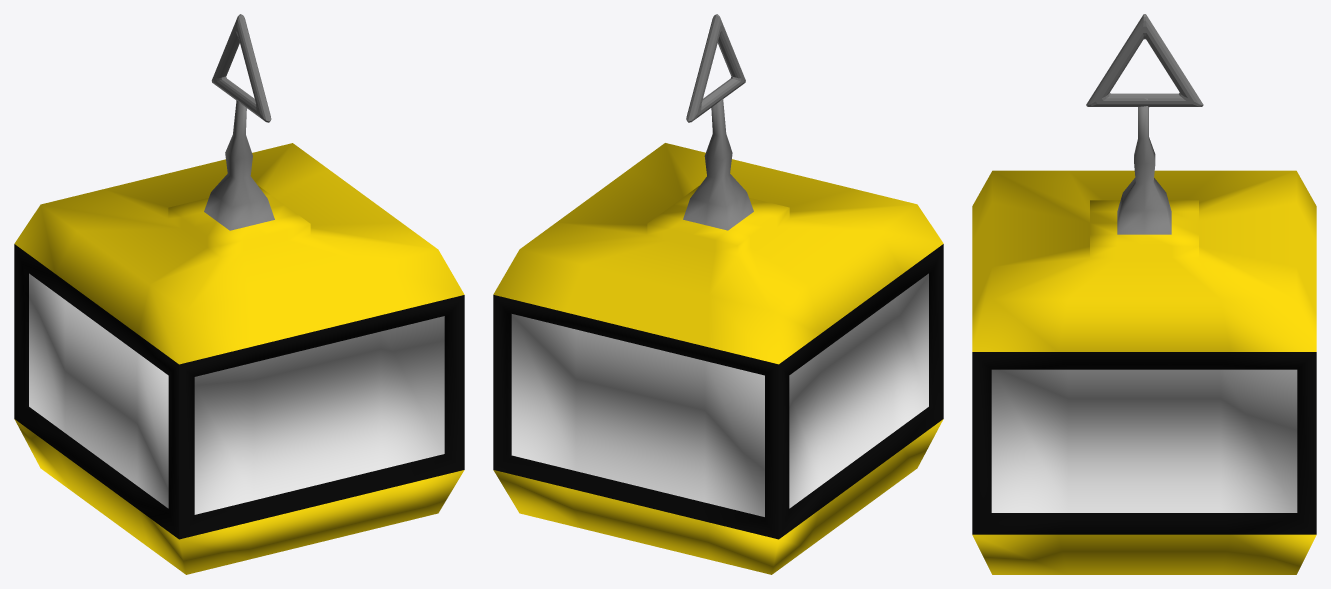
Rendered from teleferik.fbx.
The picture shows the model from 3 angles, left to right: view 1: azimuth 30°, elevation 25°; view 2: azimuth 150°, elevation 25°; view 3: azimuth 270°, elevation 25°; orthographic projection. The views are drawn at different scales.
Visible parts, largest first — view 1: Cube, Torus; view 2: Cube, Torus; view 3: Cube, Torus.
Part boxes in pixels (x1,y1,x2,y2): Cube: (14,100,464,574); Torus: (211,14,271,122); Cube: (493,98,943,574); Torus: (686,14,745,122); Cube: (972,98,1316,574); Torus: (1086,14,1203,106).
Size of the model in its own units: 286 by 456 by 286.
